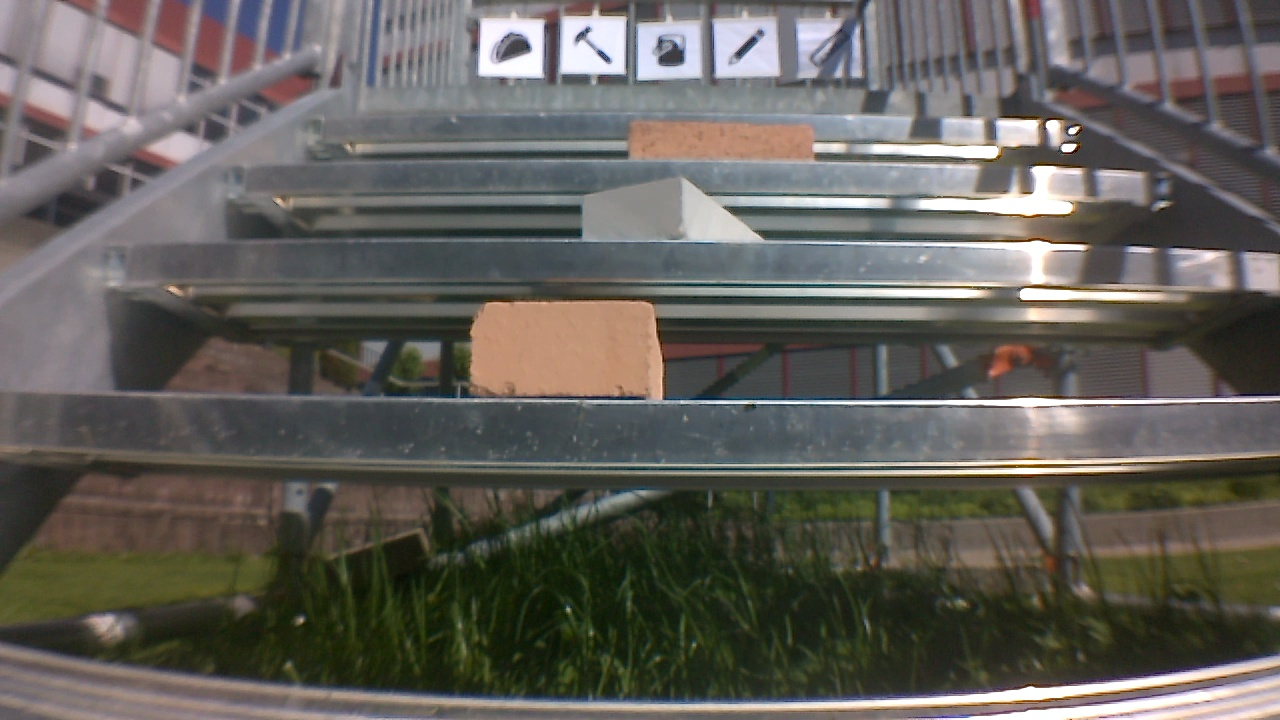brick: (459, 298, 662, 401), (580, 179, 776, 237), (623, 121, 813, 160)
edge: (83, 237, 1280, 289), (6, 399, 1280, 447), (215, 171, 1184, 202), (307, 115, 1084, 150), (360, 92, 1015, 109)
